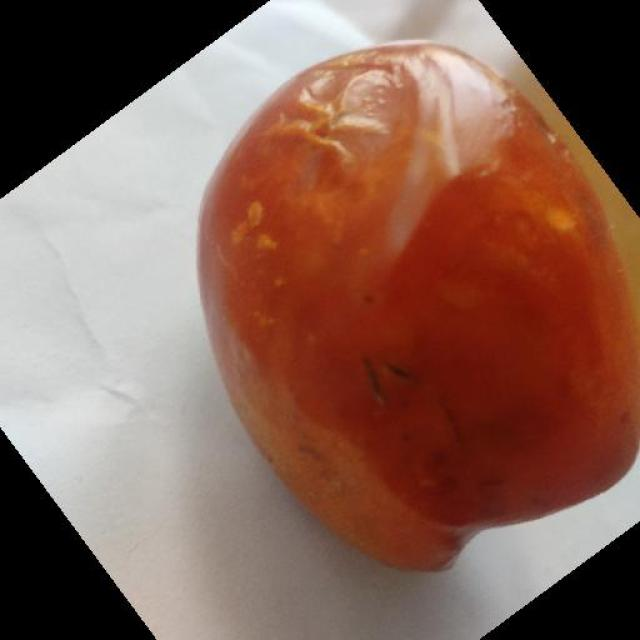Stale_tomato: (231, 50, 640, 552)
